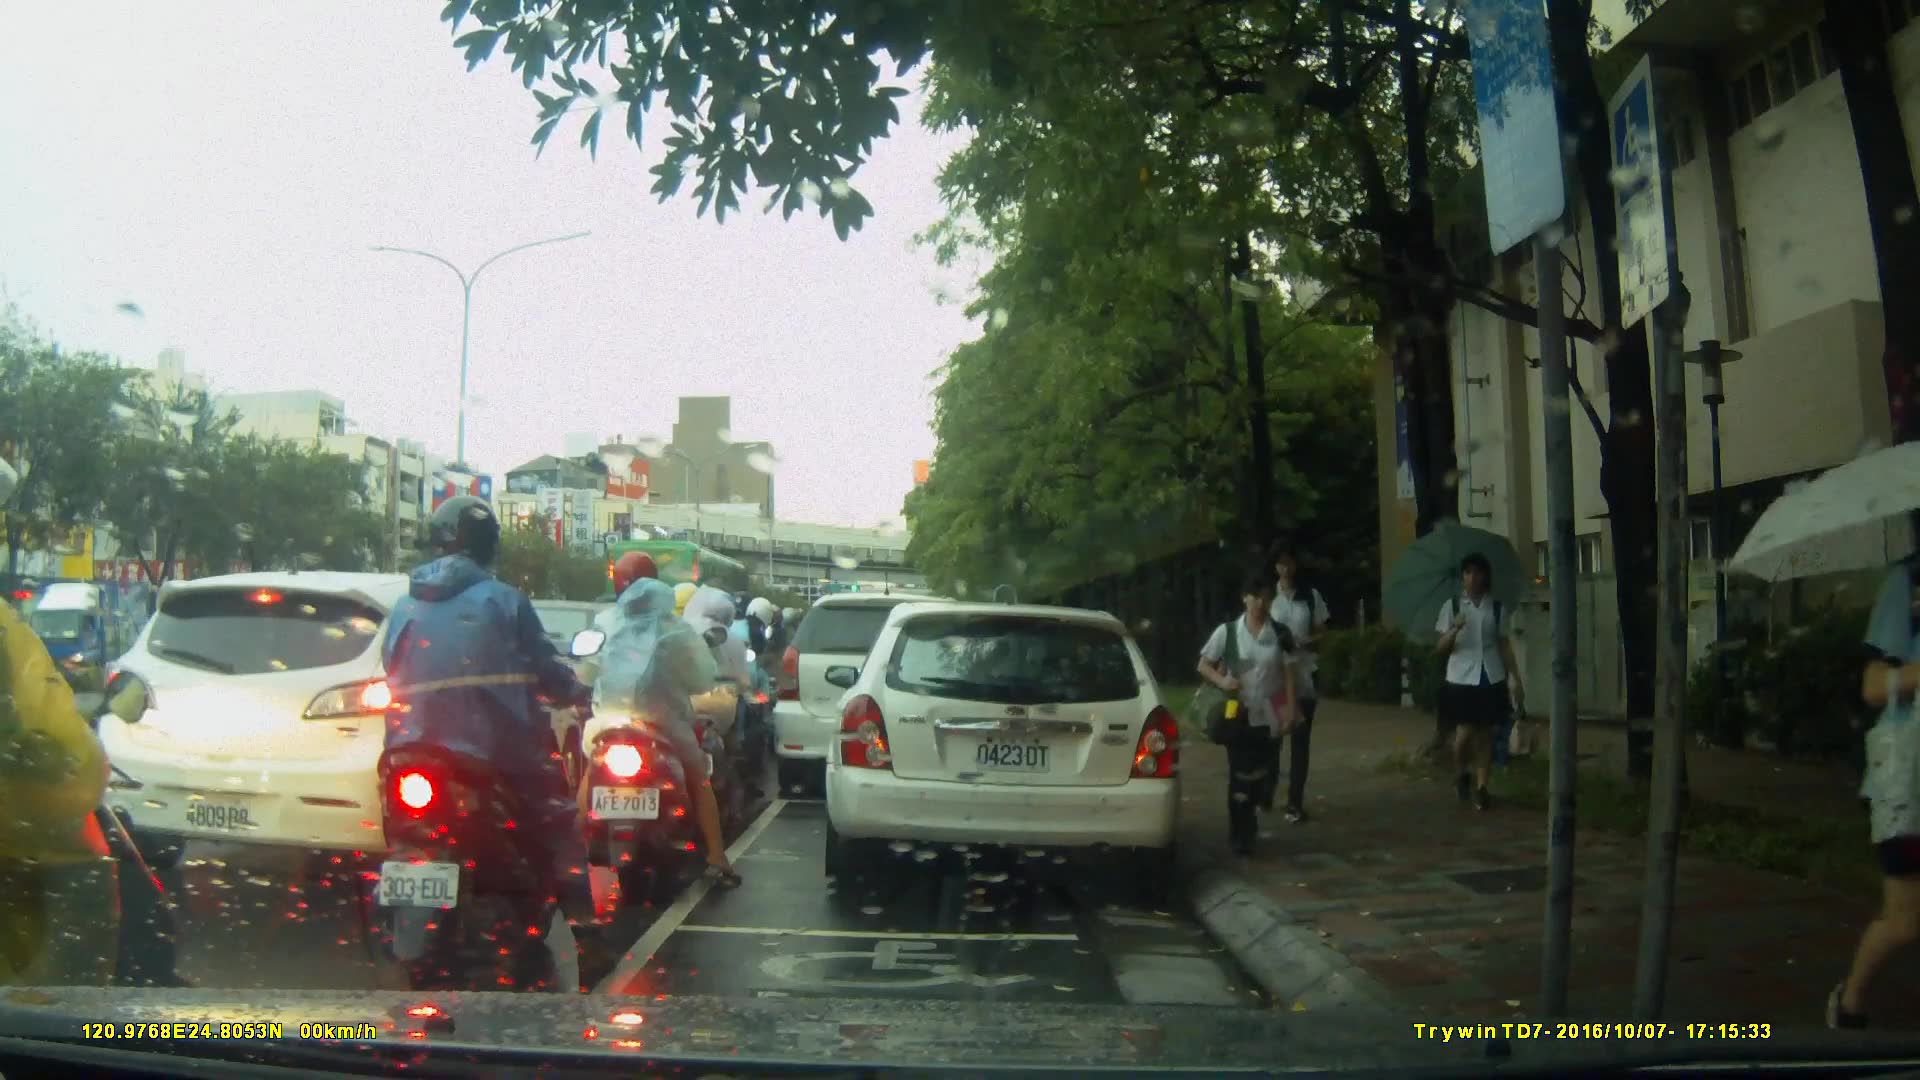pedestrian: (1835, 461, 1920, 1036), (1196, 567, 1312, 846), (1417, 547, 1521, 821), (1251, 539, 1342, 827)
rider: (377, 489, 610, 971), (1, 455, 181, 1080), (561, 554, 746, 904), (640, 578, 764, 823), (696, 594, 779, 776)
vehicle: (94, 569, 617, 883), (822, 604, 1187, 883), (774, 595, 995, 802), (20, 576, 199, 697)
